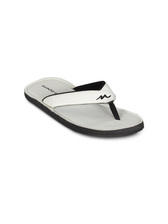shoes: (17, 70, 149, 143)
